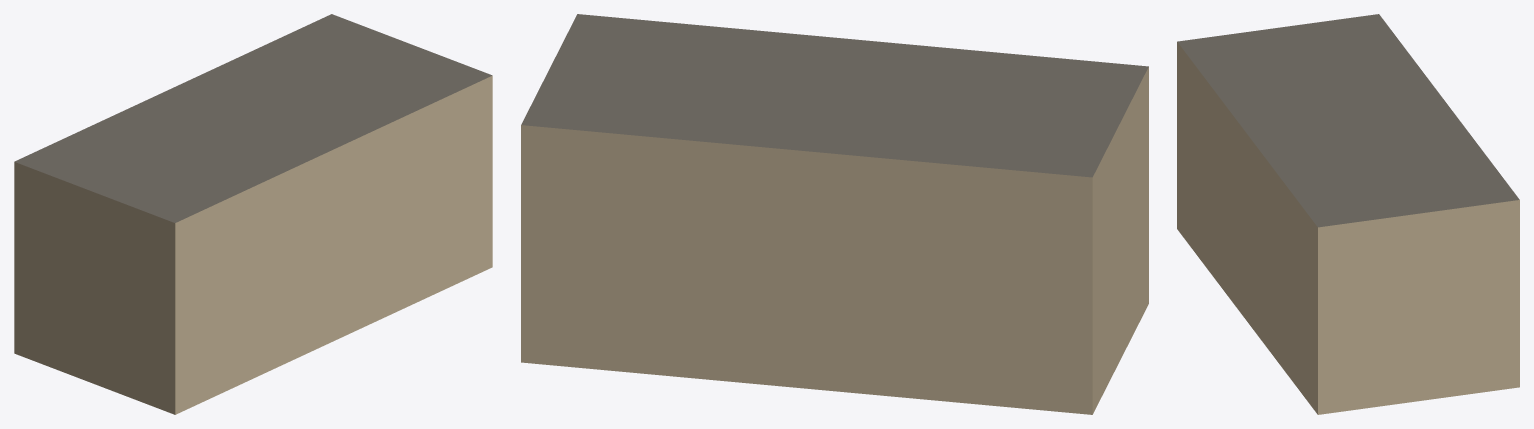
3 renders of one model, left to right at view 1: azimuth 30°, elevation 25°; view 2: azimuth 150°, elevation 25°; view 3: azimuth 270°, elevation 25°, orthographic. The views are drawn at different scales.
Visible parts, largest first — view 1: HP-w1233759523; view 2: HP-w1233759523; view 3: HP-w1233759523.
Boxes of the visible parts, box(x1,y1,x2,y2) form: HP-w1233759523: box(14, 14, 492, 414); HP-w1233759523: box(521, 14, 1148, 414); HP-w1233759523: box(1177, 14, 1519, 414).
Bounding box in the file's own units: 32.23 × 13.2 × 21.86.
